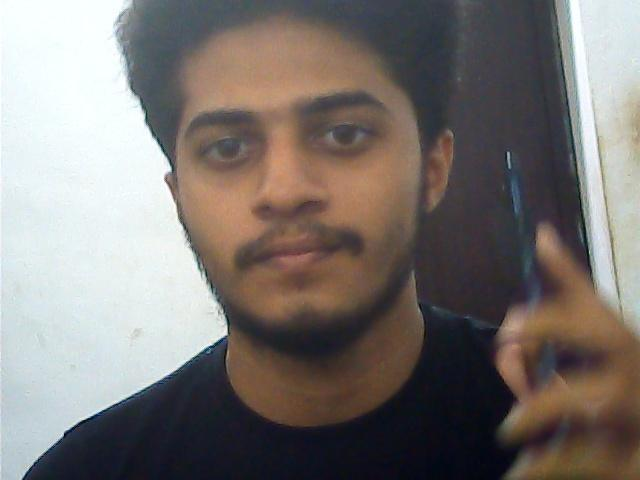PhoneUse: (490, 143, 578, 407)
SafeDriving: (300, 103, 390, 161), (187, 117, 272, 174)
